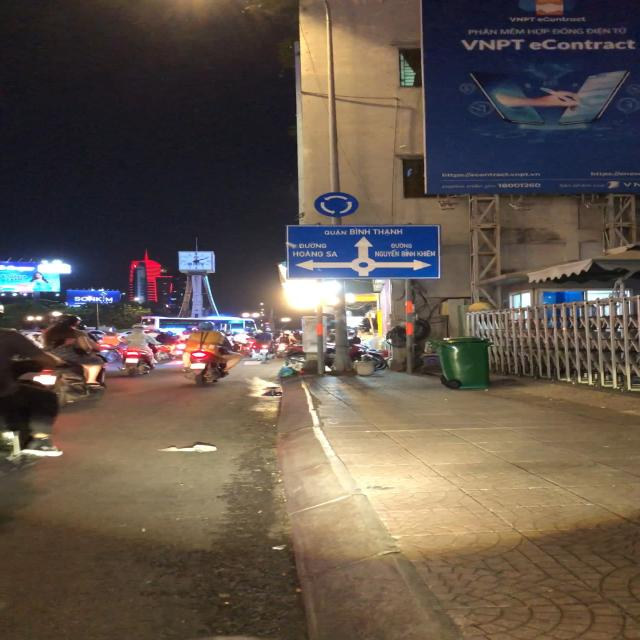Bien bao noi giao nhau chay theo vong xuyen: (313, 190, 360, 220)
